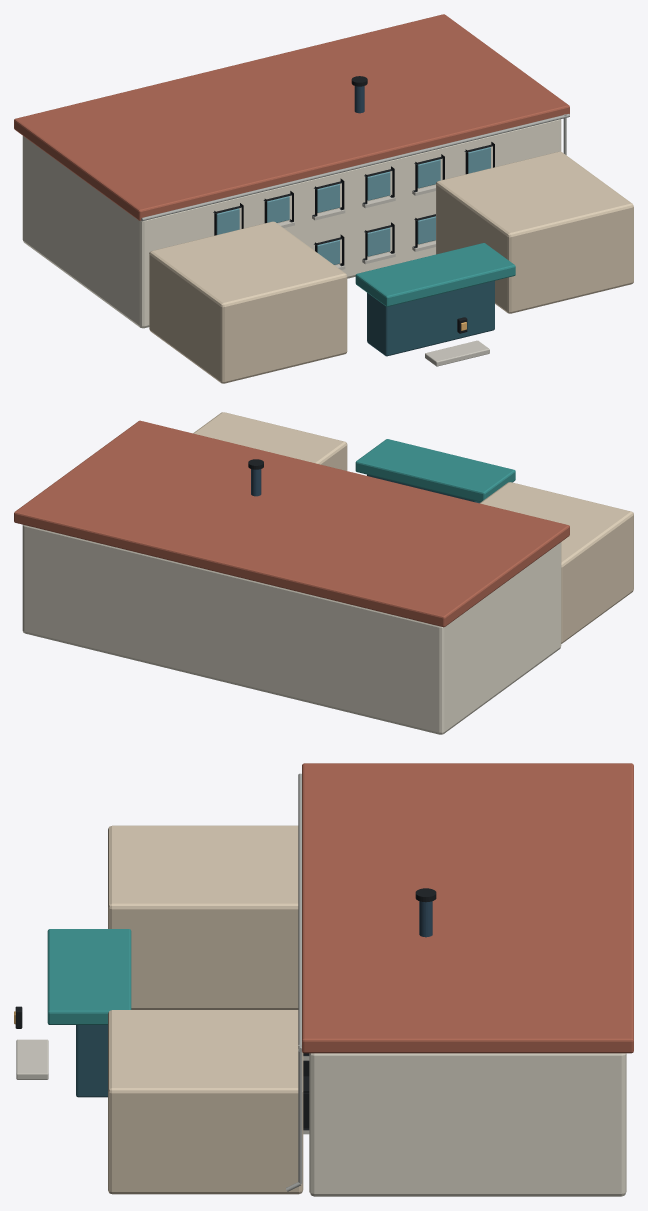
File: EDU_SCHOOL_3x3_001.glb
3 views of the same model, one above another, from view 1: azimuth 30°, elevation 25°; view 2: azimuth 150°, elevation 25°; view 3: azimuth 270°, elevation 25° (orthographic). The views are drawn at different scales.
Visible parts, largest first — view 1: EDU_SCHOOL_3x3_001_Visual; view 2: EDU_SCHOOL_3x3_001_Visual; view 3: EDU_SCHOOL_3x3_001_Visual.
Part boxes in pixels (x1,y1,x2,y2): EDU_SCHOOL_3x3_001_Visual: (14,14,633,383); EDU_SCHOOL_3x3_001_Visual: (14,412,633,734); EDU_SCHOOL_3x3_001_Visual: (14,763,633,1196).
Size of what is drawn, in the model's own units: 5.32 by 1.82 by 5.03.
